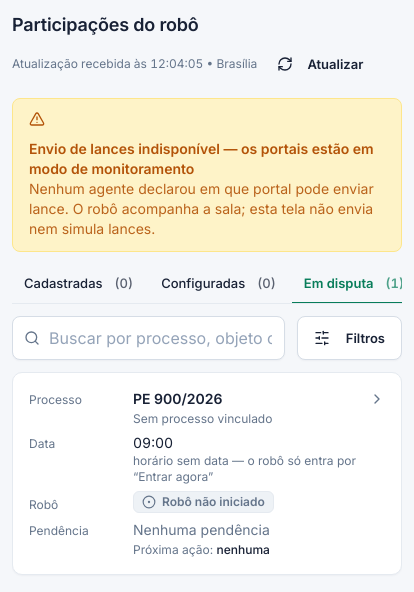
PainelDeParticipacoes — abrir a participação › sem processo vinculado, abre a mesma página da disputa
Step 1. Click the button "PE 900/2026" → (207, 474), box top-left (12, 372), bottom-right (402, 575)
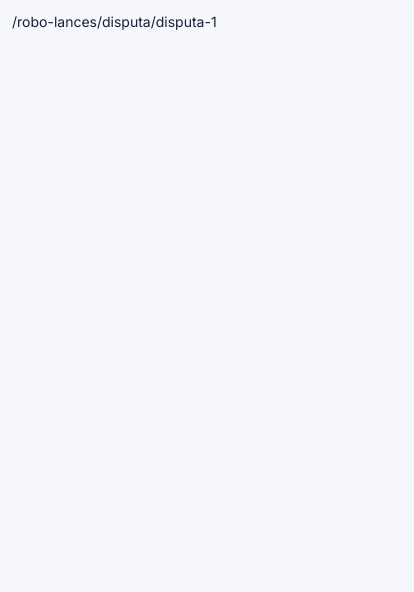
Now the text with test id "local" reads "/robo-lances/disputa/disputa-1", box top-left (12, 13), bottom-right (217, 30)
